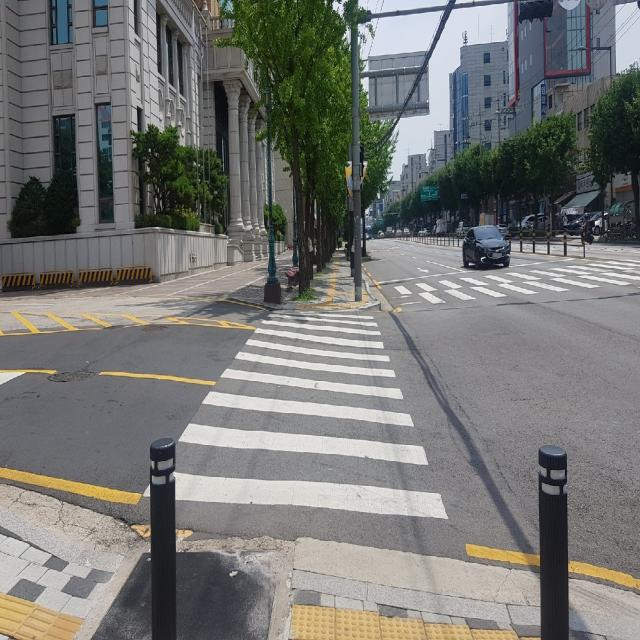횡단보도: (143, 311, 449, 519), (388, 258, 640, 306)
